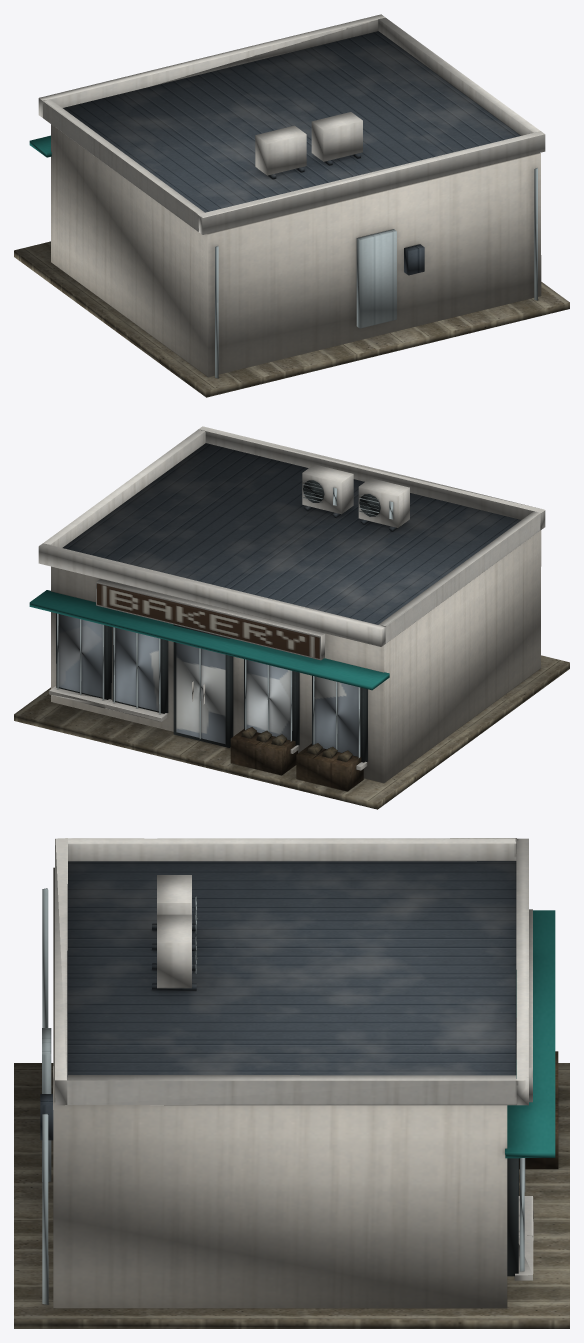
File: shop_005.lod1.obj
3 renders of one model, top to bottom at view 1: azimuth 30°, elevation 25°; view 2: azimuth 150°, elevation 25°; view 3: azimuth 270°, elevation 25°, orthographic. The views are drawn at different scales.
Parts seen in each view (by area): view 1: shop_005; view 2: shop_005; view 3: shop_005.
Part boxes in pixels (left/top/right/bottom): shop_005: left=14, top=14, right=569, bottom=397; shop_005: left=14, top=426, right=569, bottom=809; shop_005: left=14, top=838, right=569, bottom=1328.
Bounding box in the file's own units: 7.75 × 3.88 × 7.1.
1 material, 1 textured.
